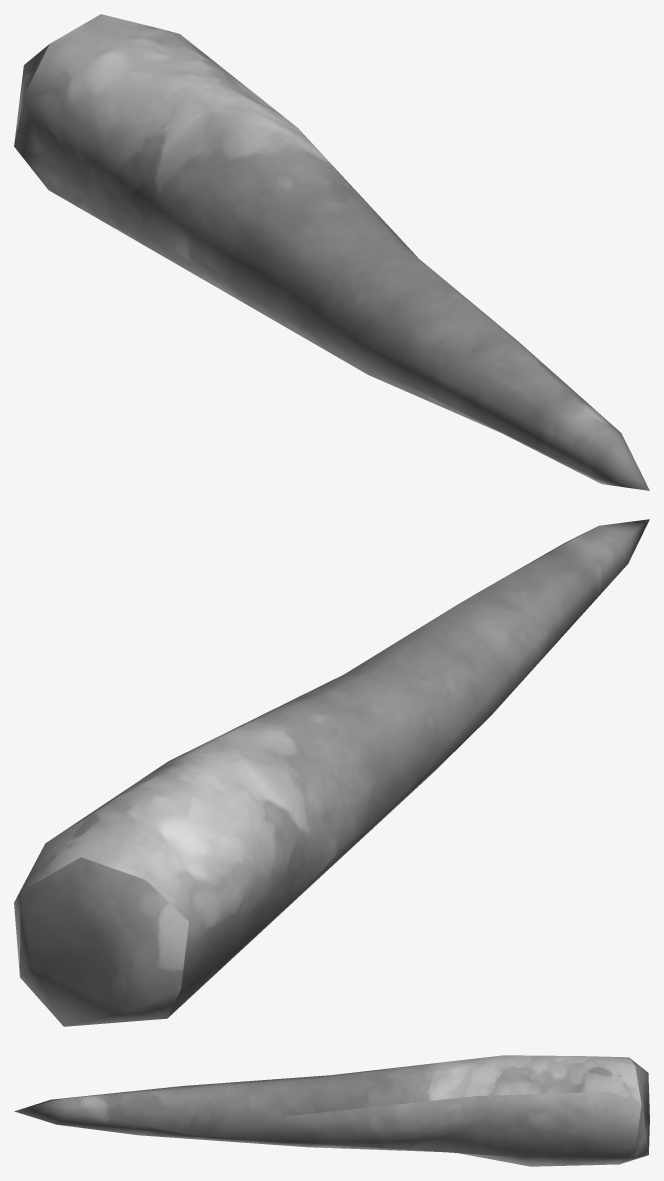
The model's file is SM_Carrot_01a.fbx.
3 views of the same model, one above another, from view 1: azimuth 30°, elevation 25°; view 2: azimuth 150°, elevation 25°; view 3: azimuth 270°, elevation 25° (orthographic). The views are drawn at different scales.
Parts seen in each view (by area): view 1: SM_Carrot_01a_LOD0; view 2: SM_Carrot_01a_LOD0; view 3: SM_Carrot_01a_LOD0.
Boxes of the visible parts, <box> form: SM_Carrot_01a_LOD0: <box>14,14,649,490</box>; SM_Carrot_01a_LOD0: <box>14,519,649,1026</box>; SM_Carrot_01a_LOD0: <box>14,1055,649,1166</box>.
Bounding box in the file's own units: 7.21 × 42.53 × 7.4.
